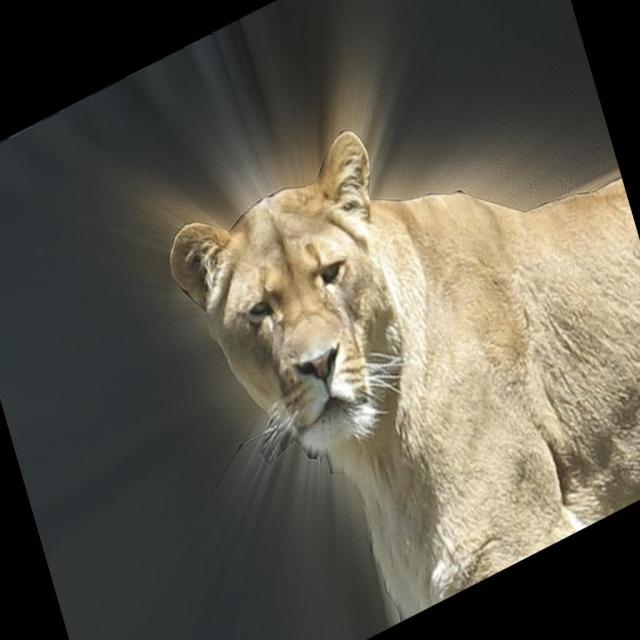Lion: (155, 8, 639, 640)
